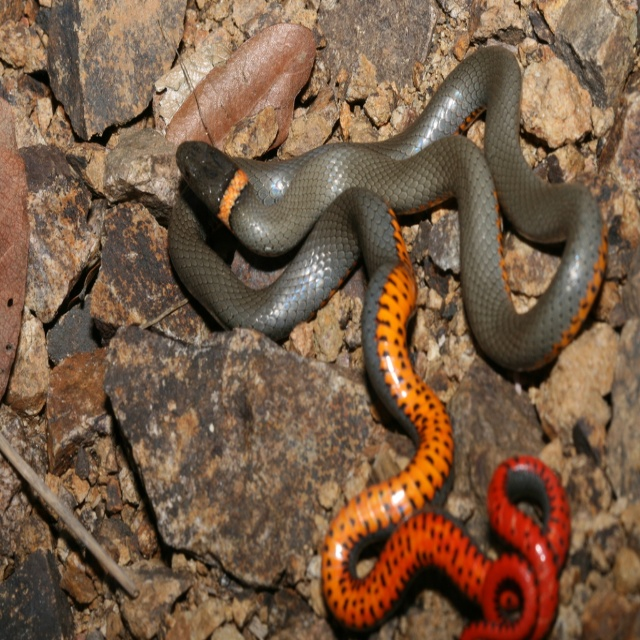Snake: (168, 41, 607, 639)
